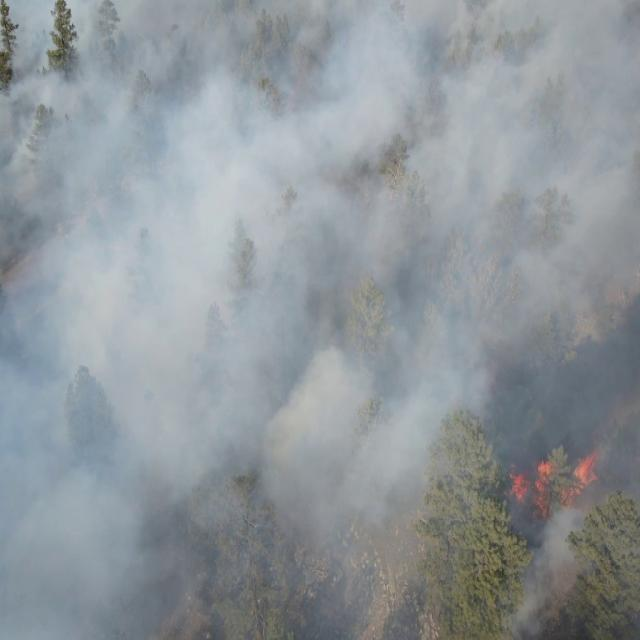fire: (504, 453, 600, 515)
smoke: (0, 0, 640, 640)
